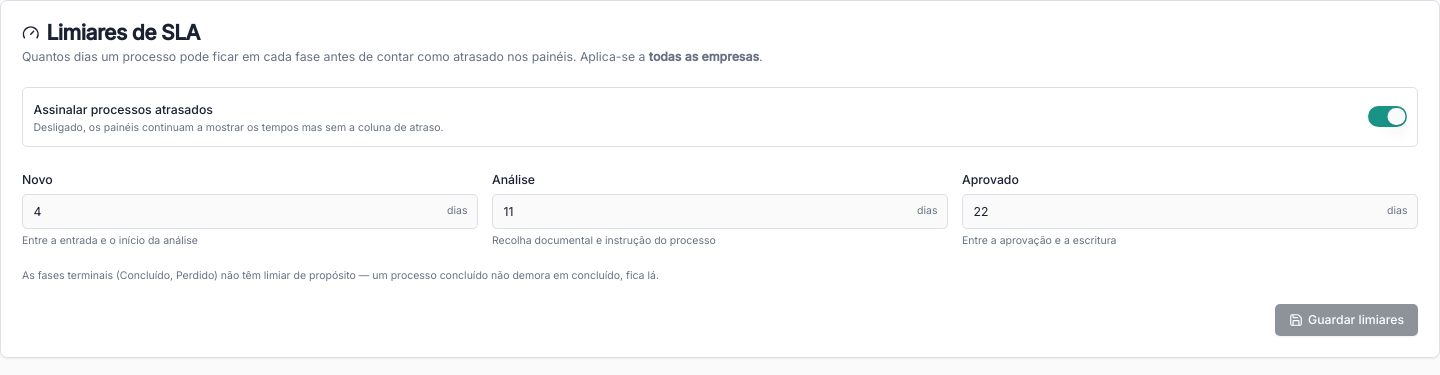
Scenario: SlaThresholdsSection › depois de gravar, o botão volta a desactivar
Step 1. Replace the text in the field with test id "sla-novo" with "9" → (250, 211), box top-left (22, 194), bottom-right (478, 229)
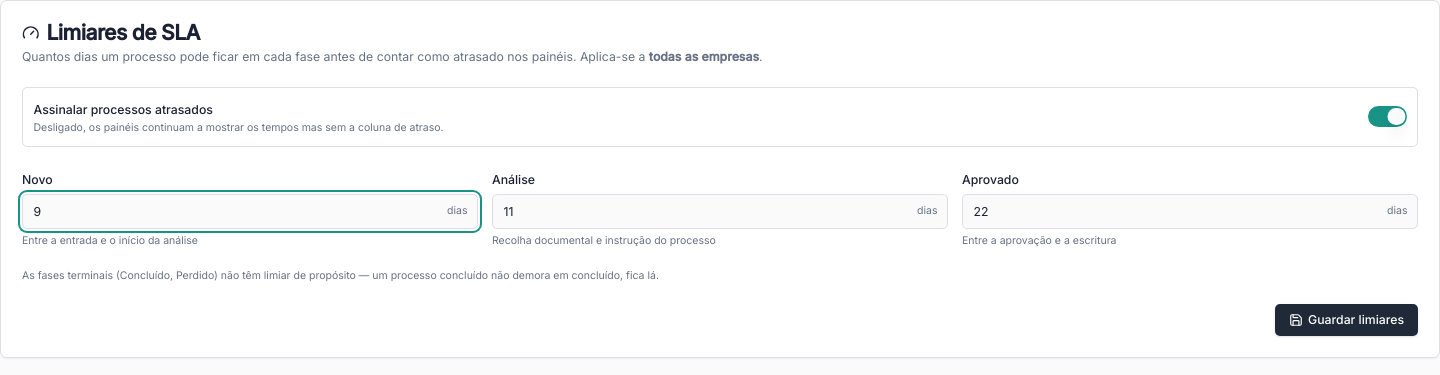
Step 2. Click the button with test id "sla-guardar" → (1346, 320), box top-left (1275, 304), bottom-right (1418, 336)
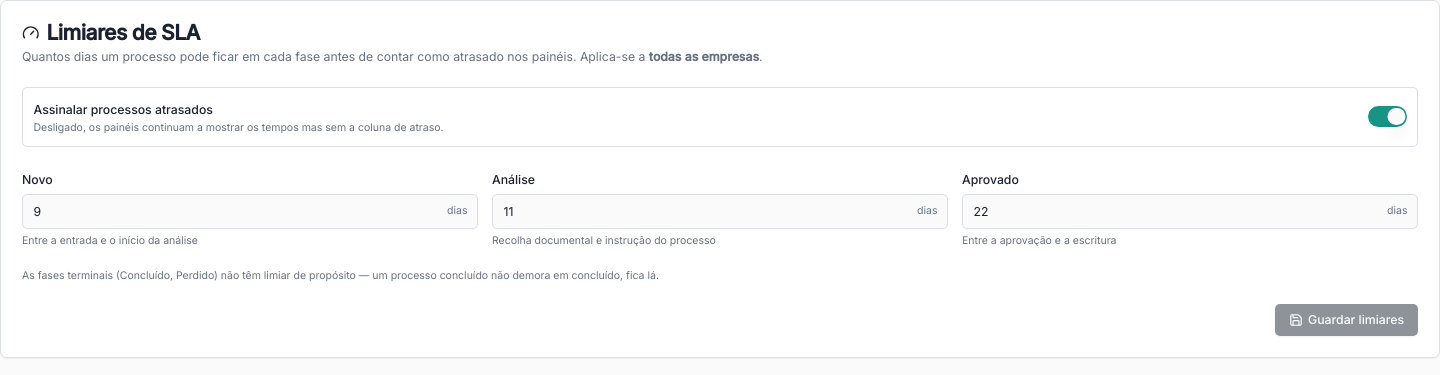
Expected: the button with test id "sla-guardar" is disabled, top-left (1275, 304), bottom-right (1418, 336)
